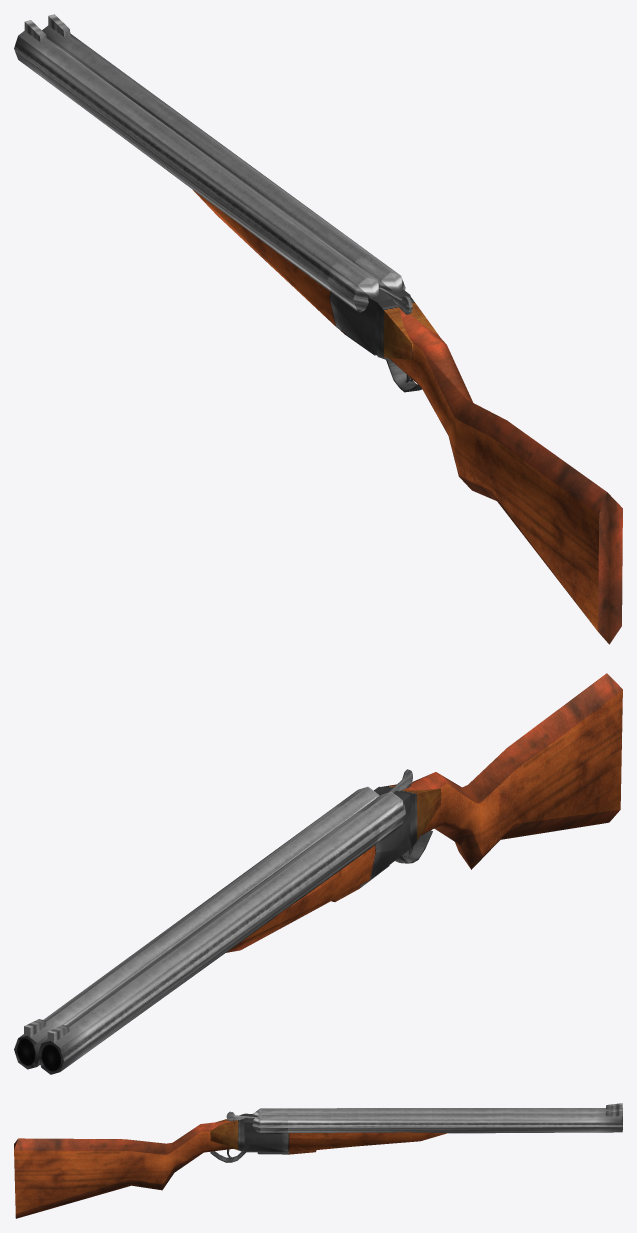
File: sshotgun.obj
3 renders of one model, top to bottom at view 1: azimuth 30°, elevation 25°; view 2: azimuth 150°, elevation 25°; view 3: azimuth 270°, elevation 25°, orthographic. The views are drawn at different scales.
Parts seen in each view (by area): view 1: barral, bud, grip, contact; view 2: barral, bud, grip, barralfront, contact; view 3: bud, barral, grip, contact, tirg, ironsight.
Boxes of the visible parts, x1,y1,x2,y2 form: barral: (14, 25, 405, 312); bud: (389, 309, 622, 644); grip: (192, 189, 410, 355); contact: (375, 295, 439, 361); barral: (19, 786, 405, 1071); bud: (404, 673, 622, 869); grip: (226, 786, 411, 952); barralfront: (14, 1035, 63, 1074); contact: (381, 782, 441, 849); bud: (14, 1120, 234, 1218); barral: (251, 1108, 622, 1133); grip: (243, 1113, 447, 1154); contact: (210, 1114, 244, 1151); tirg: (210, 1149, 246, 1162); ironsight: (605, 1103, 622, 1116).
Bounding box in the file's own units: 4.08 × 15.69 × 77.38.
Materials: 8 (8 with a texture image).
